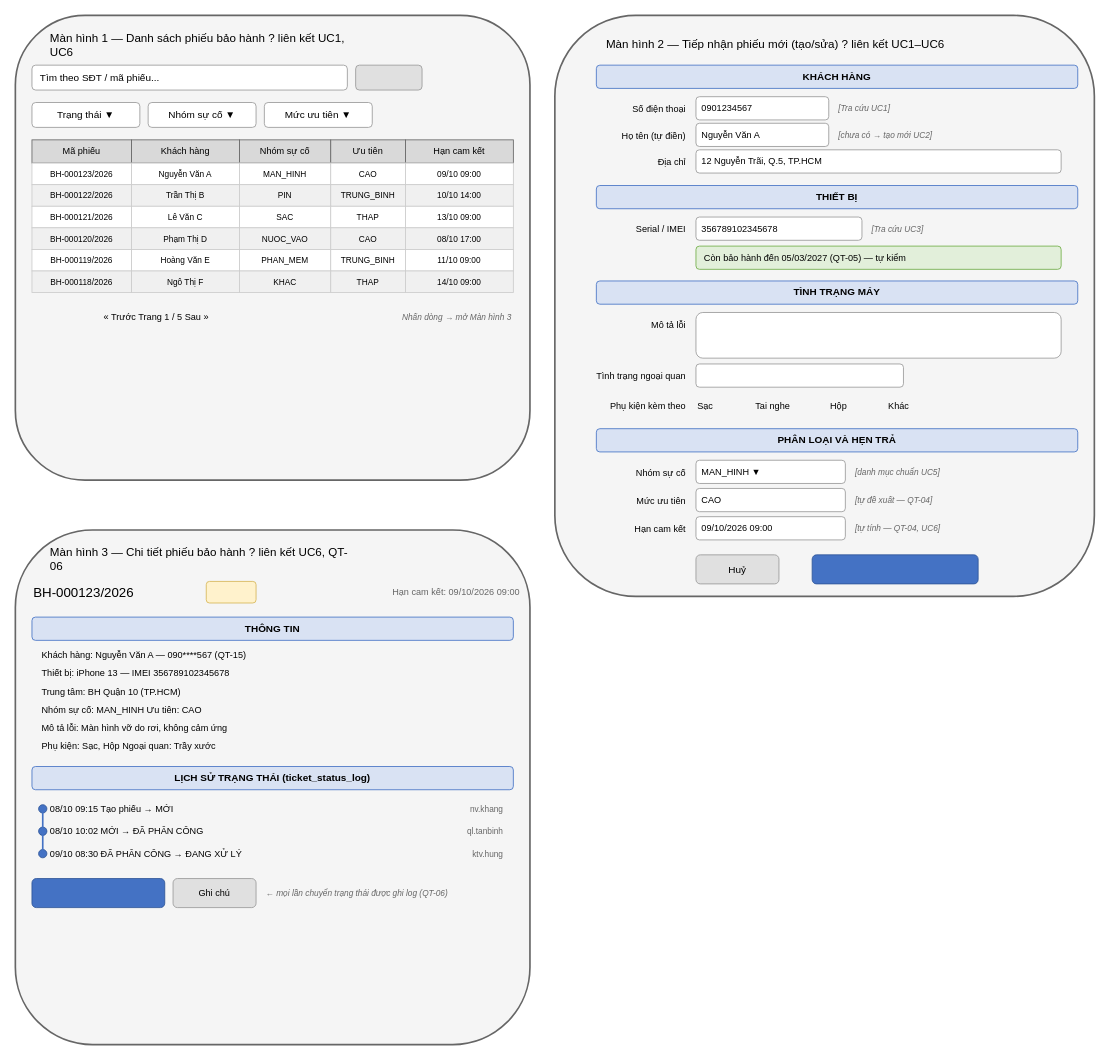
The diagram is 1109 pixels wide and 1059 high, and some of its shapes have lost their labels. Each missing label, with the centre of its shape:
Cập nhật trạng thái: point 98,893
Lưu → tạo phiếu (UC6): point 894,569
Màn hình vỡ do rơi, không cảm ứng được: point 878,335
MỚI: point 230,592
Tra cứu: point 388,77
Trầy xước góc phải: point 799,375
